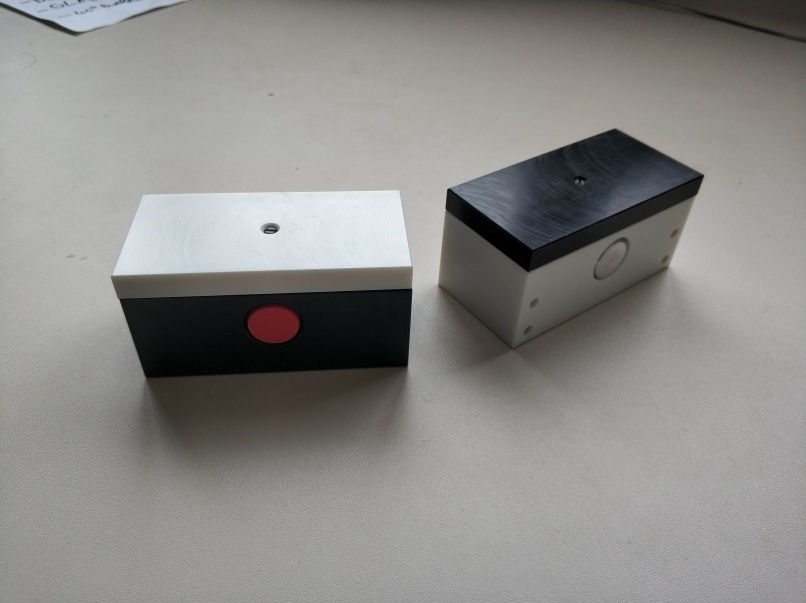black+white+silver: (436, 124, 709, 358)
white+black+red: (107, 188, 415, 385)
